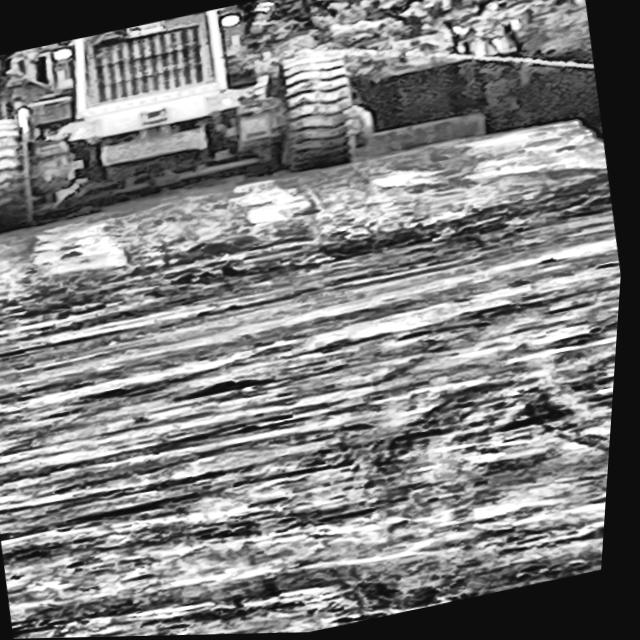buldozerpayloadergrader: (0, 0, 408, 233)
